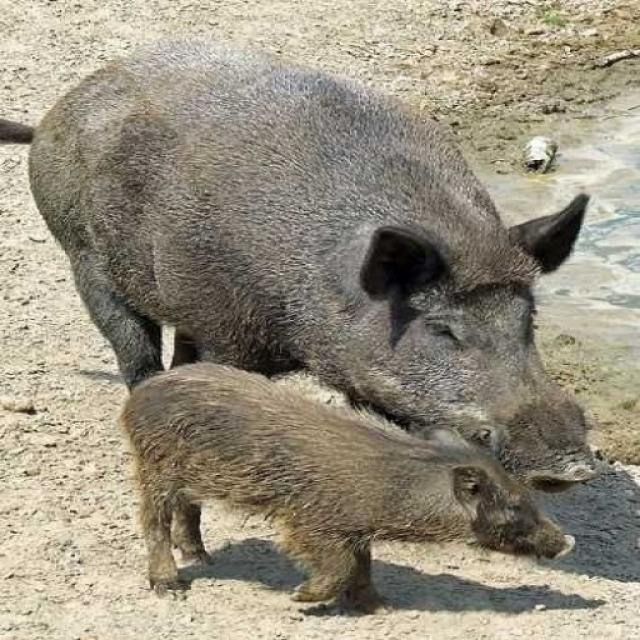pig: (2, 56, 608, 497), (115, 355, 577, 640)
